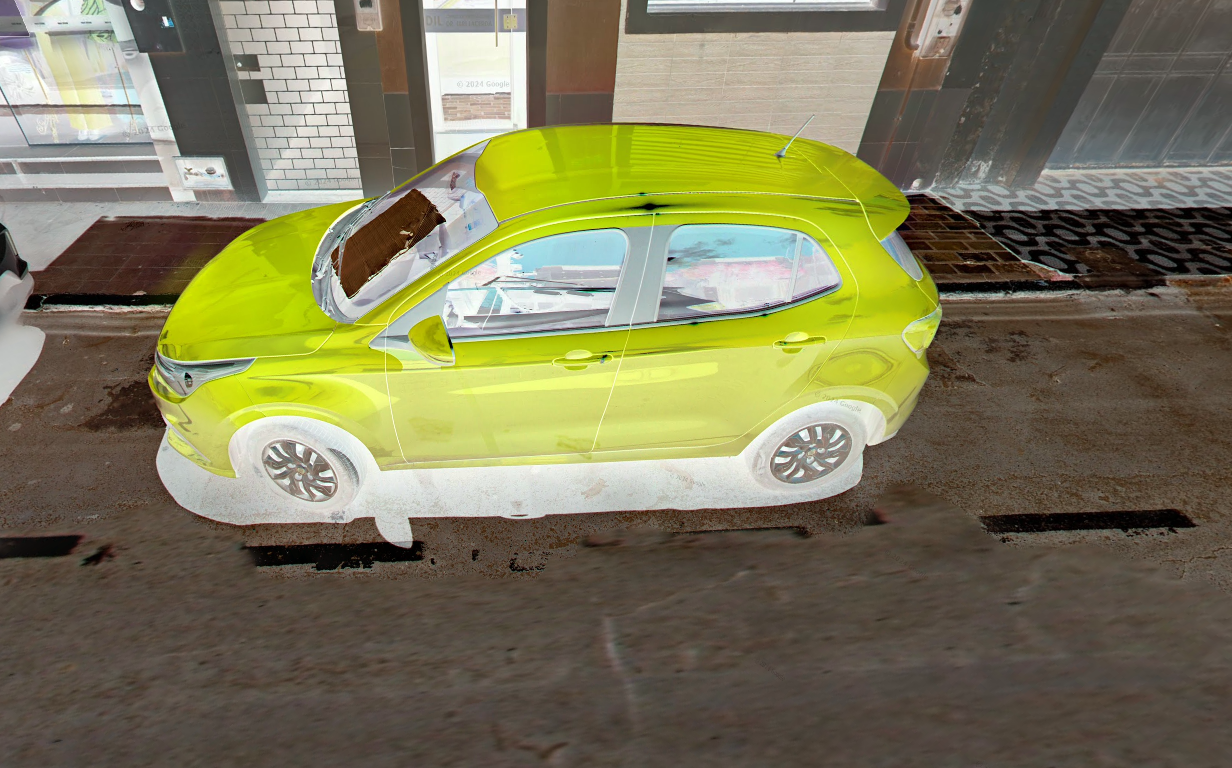car: (136, 103, 955, 545)
